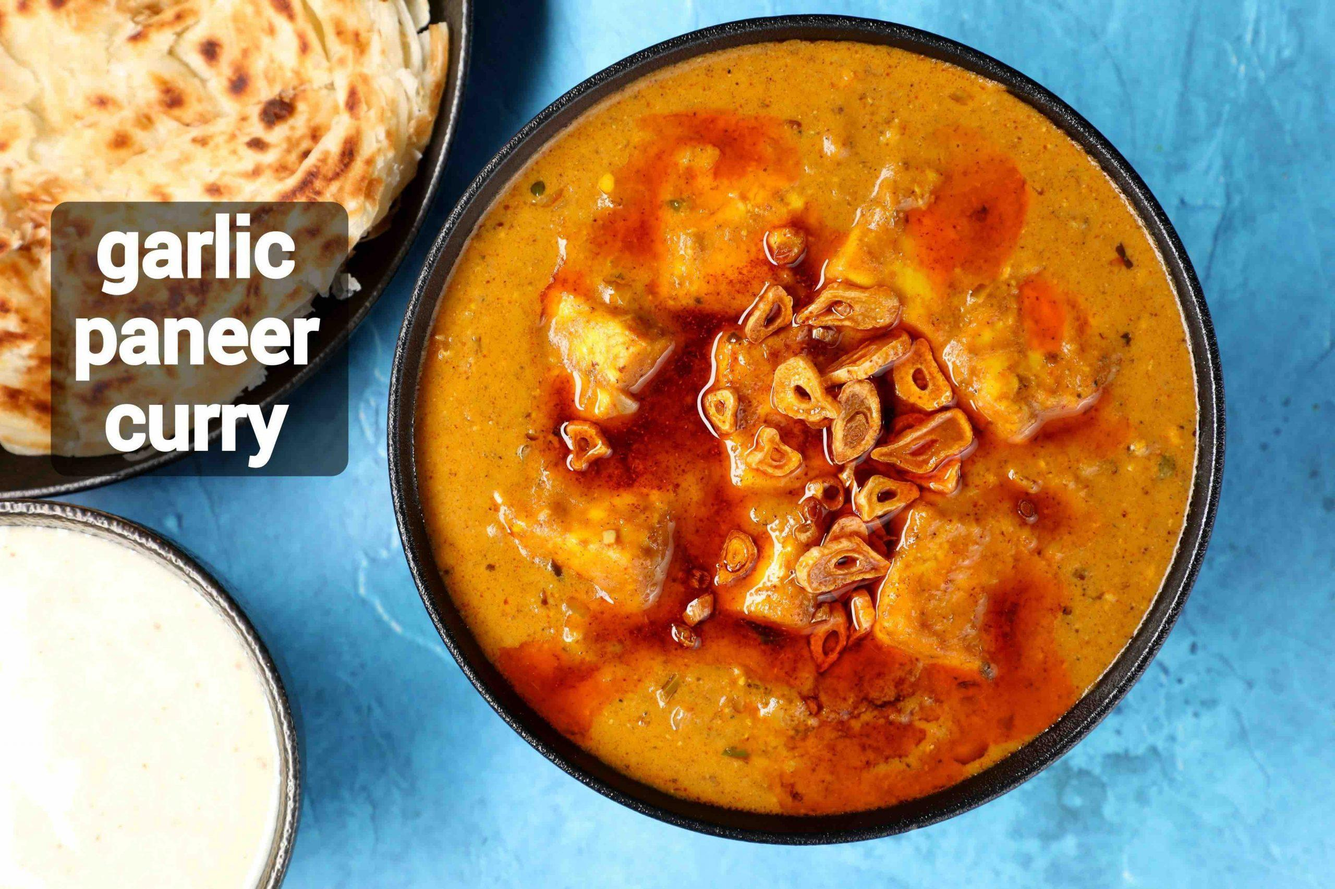paneer: (585, 157, 1012, 714)
roti: (0, 17, 363, 130)
